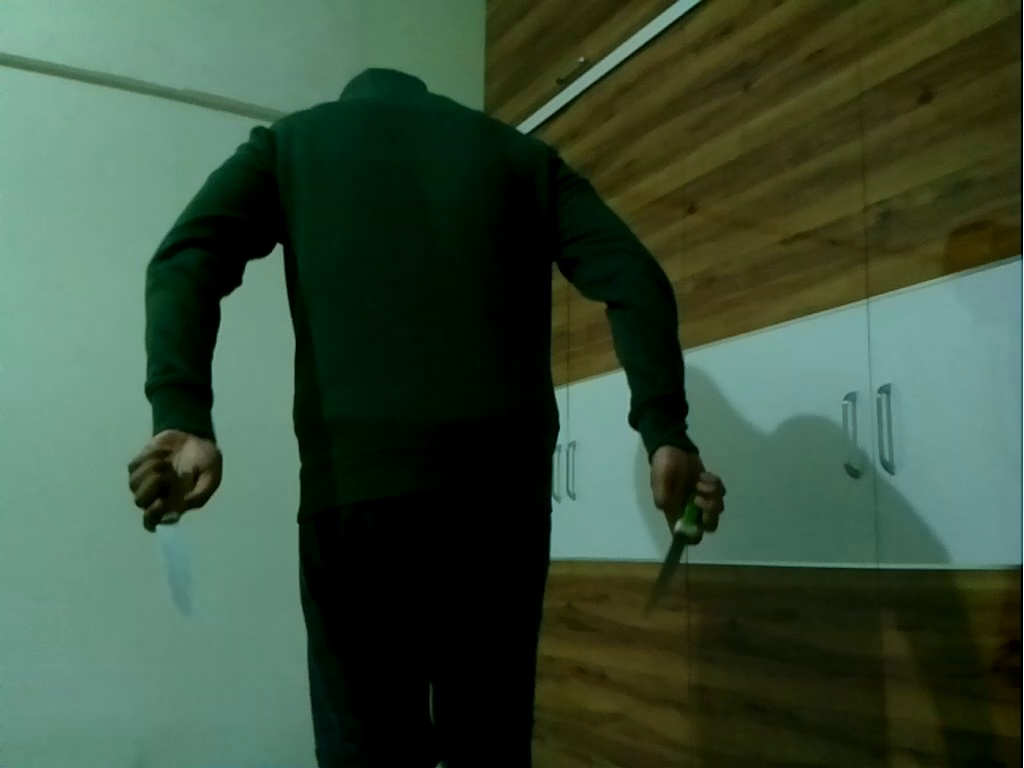knife: (633, 473, 730, 615)
